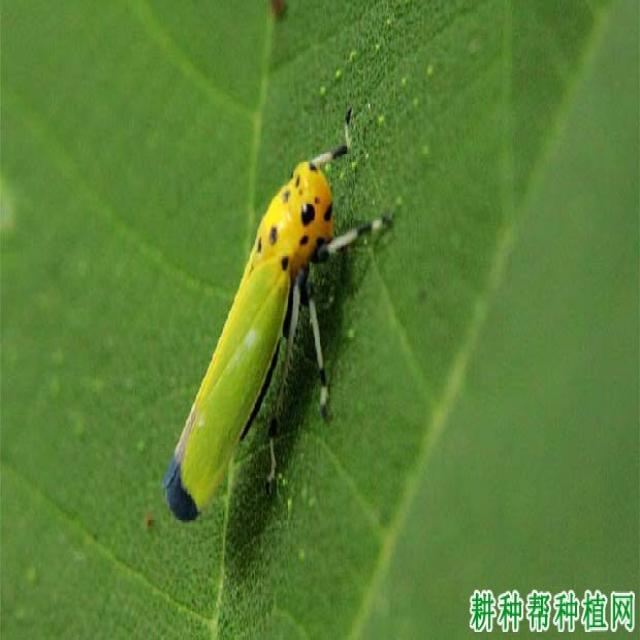Yechan: (162, 96, 404, 540)
